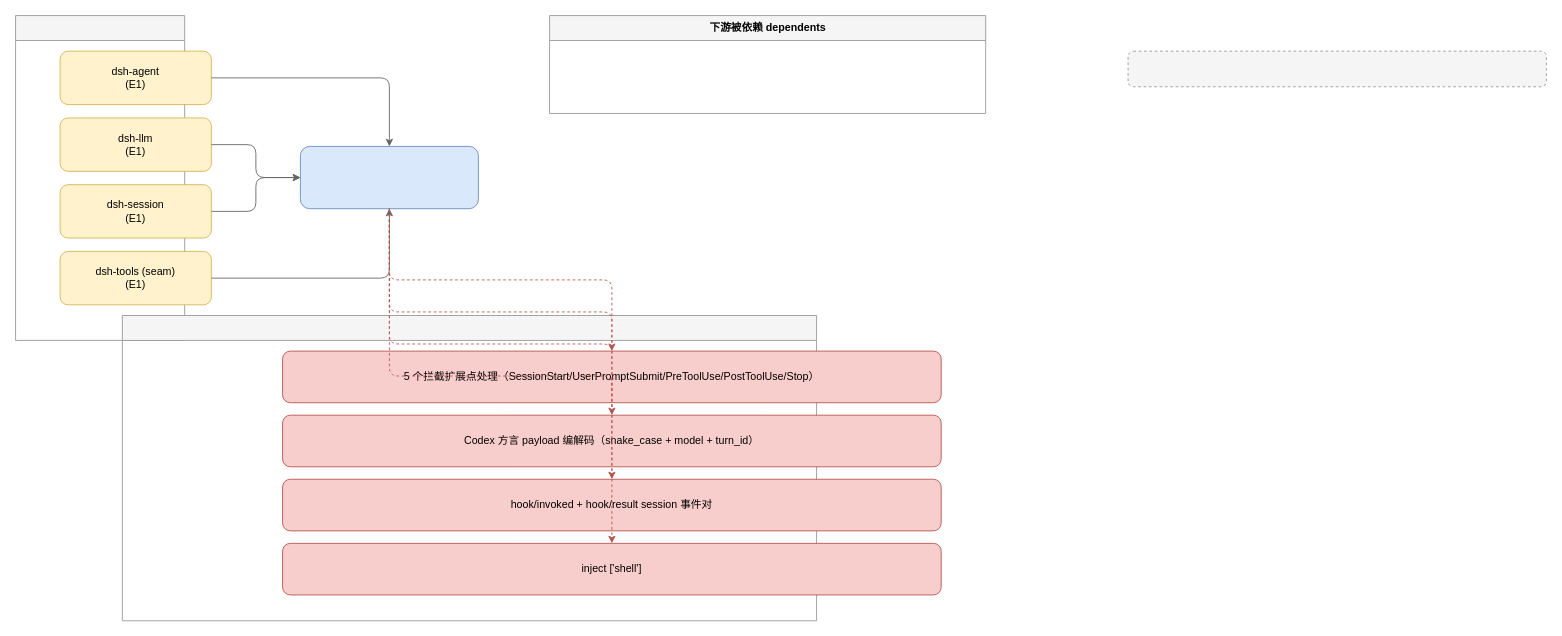
This 1562x636 diagram has some shape labels left out. The box of each missing label's shape, as (x1, y1, x2, y2) in pixels:
@deepseek-ai/dsh-hooks-codex: (299, 146, 478, 209)
上游依赖 upstream: (15, 15, 185, 340)
提供服务 provides（关键项）: (121, 315, 817, 621)
无下游: (1127, 50, 1546, 87)
